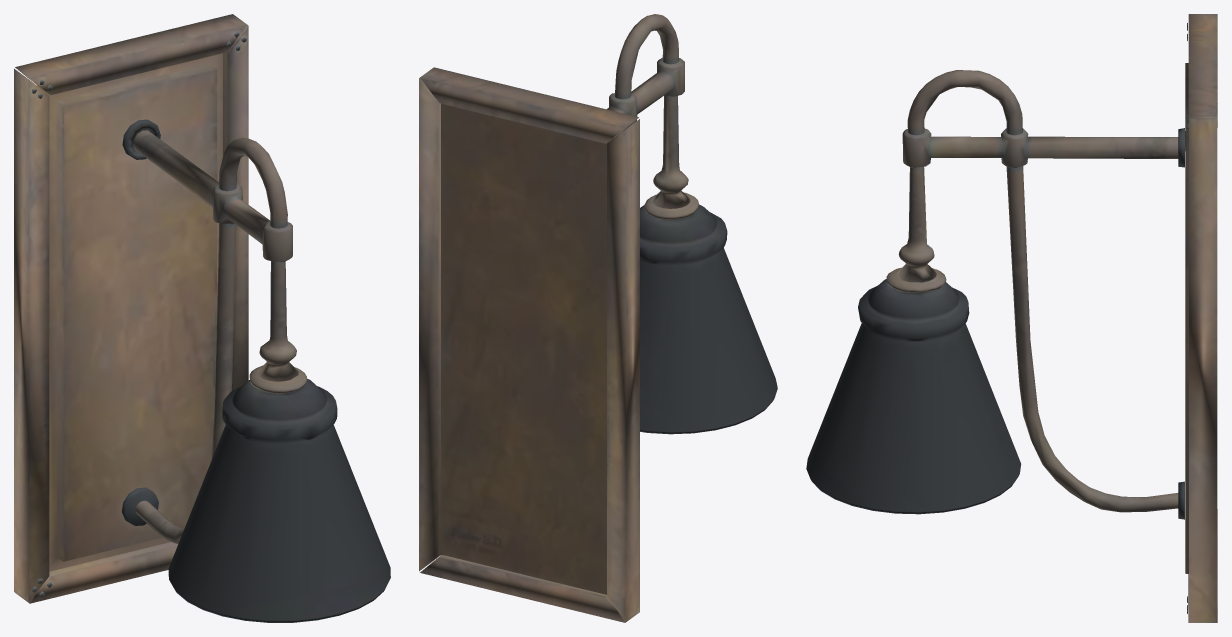
The model's file is industrial_wall_sconce.glb.
The picture shows the model from 3 angles, left to right: view 1: azimuth 30°, elevation 25°; view 2: azimuth 150°, elevation 25°; view 3: azimuth 270°, elevation 25°; orthographic projection. The views are drawn at different scales.
Visible parts, largest first — view 1: industrial_wall_sconce; view 2: industrial_wall_sconce; view 3: industrial_wall_sconce.
Boxes of the visible parts, bbox=[...] form: industrial_wall_sconce: bbox=[14, 14, 390, 622]; industrial_wall_sconce: bbox=[419, 14, 777, 622]; industrial_wall_sconce: bbox=[806, 14, 1217, 622].
Bounding box in the file's own units: 0.1494 × 0.3413 × 0.2512.
Materials: 2 (2 with a texture image).
